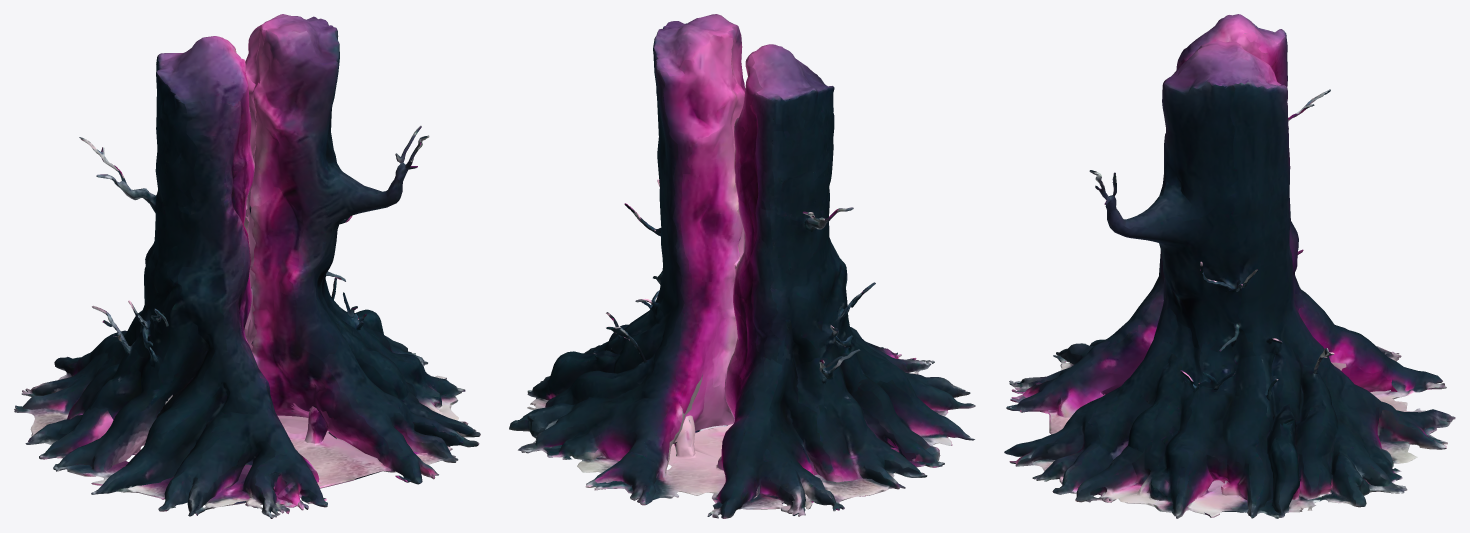
The model's file is root-southwest-generated-2026-04-19T17-19-22-220Z.medium.glb.
3 renders of one model, left to right at view 1: azimuth 30°, elevation 25°; view 2: azimuth 150°, elevation 25°; view 3: azimuth 270°, elevation 25°, orthographic.
Visible parts, largest first — view 1: temp_mesh.ply; view 2: temp_mesh.ply; view 3: temp_mesh.ply.
Part boxes in pixels (bbox=[...]): temp_mesh.ply: bbox=[14, 14, 480, 518]; temp_mesh.ply: bbox=[509, 14, 975, 518]; temp_mesh.ply: bbox=[1004, 14, 1455, 518].
Bounding box in the file's own units: 1.97 × 1.9 × 1.95.
1 material, 1 textured.
